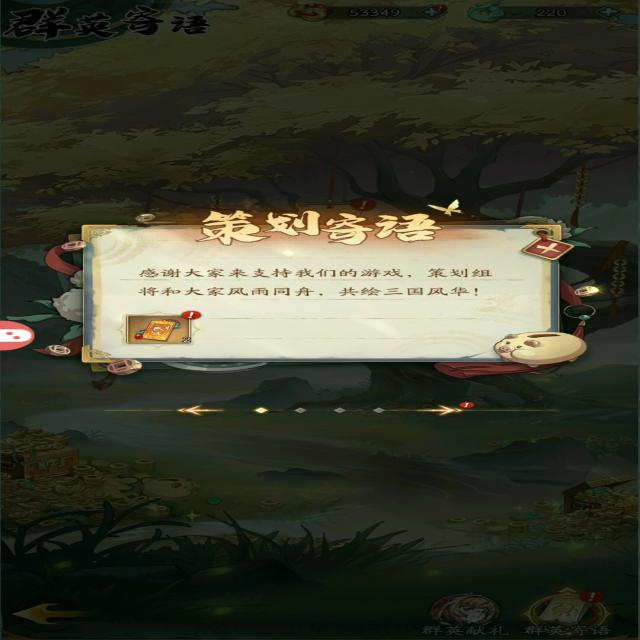hint-reddot: (178, 302, 217, 327), (446, 396, 478, 411)
operation-close: (506, 234, 592, 258)
operation-confirm: (110, 309, 210, 352)
operation-enter: (403, 401, 464, 420), (162, 398, 209, 422)
